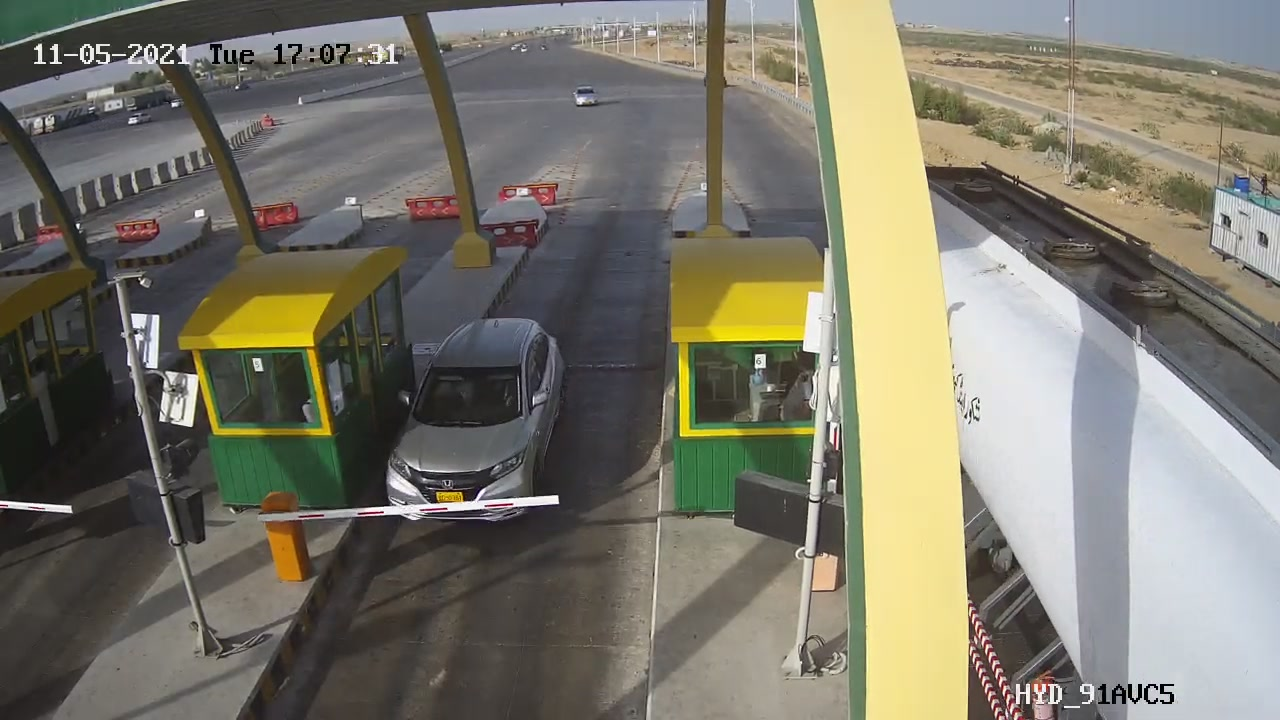F1: (368, 301, 585, 540)
